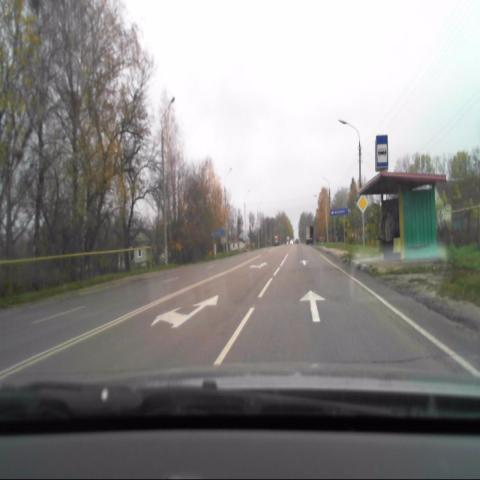2_1: (357, 196, 368, 214)
5_16: (375, 136, 388, 169)
